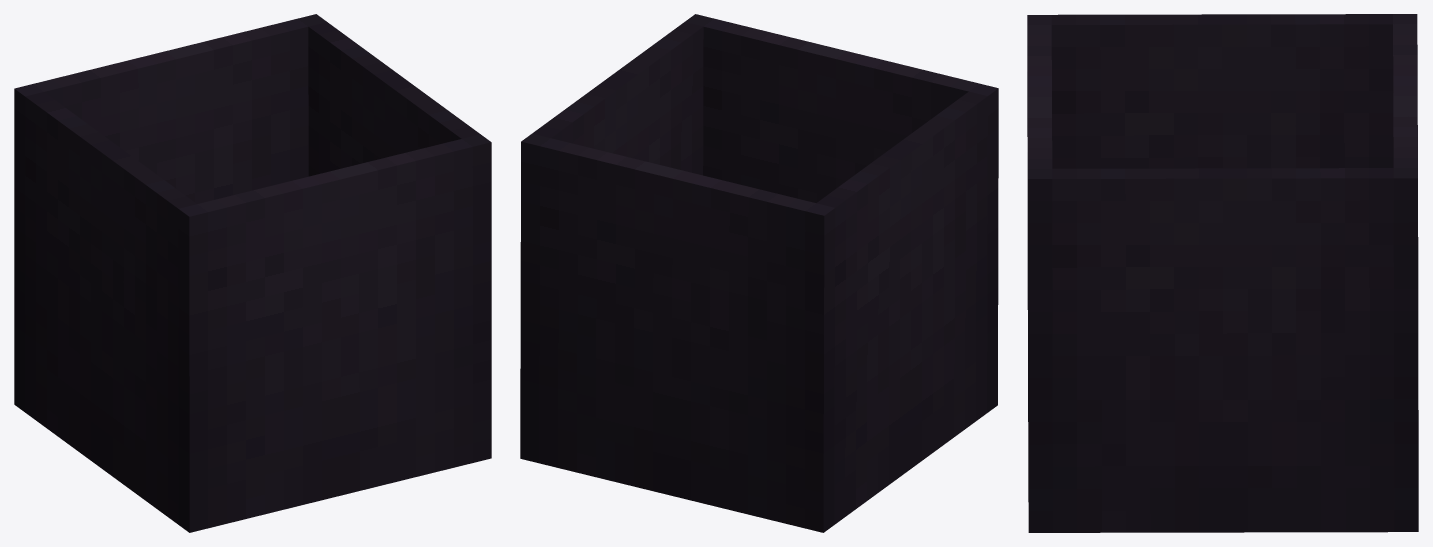
File: AlchemicalCauldron.obj
The picture shows the model from 3 angles, left to right: view 1: azimuth 30°, elevation 25°; view 2: azimuth 150°, elevation 25°; view 3: azimuth 270°, elevation 25°; orthographic projection. The views are drawn at different scales.
Visible parts, largest first — view 1: cube3, cube4, cube2, cube5; view 2: cube2, cube4, cube3, cube5; view 3: cube5, cube4, cube3, cube2.
Part boxes in pixels (bbox=[...]): cube3: bbox=[178, 134, 491, 532]; cube4: bbox=[25, 92, 196, 524]; cube2: bbox=[14, 14, 326, 412]; cube5: bbox=[308, 22, 480, 176]; cube2: bbox=[520, 133, 835, 532]; cube4: bbox=[816, 91, 987, 524]; cube3: bbox=[685, 14, 998, 412]; cube5: bbox=[532, 22, 703, 175]; cube5: bbox=[1052, 168, 1394, 532]; cube4: bbox=[1051, 14, 1393, 168]; cube3: bbox=[1027, 15, 1052, 532]; cube2: bbox=[1393, 14, 1418, 531].
Bounding box in the file's own units: 16.06 × 16.06 × 16.06.
